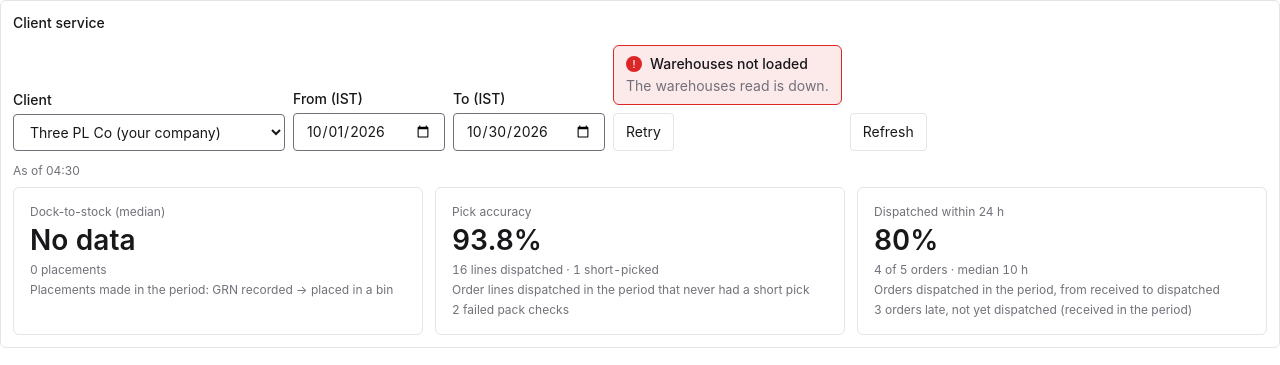
Test: ClientService (21-8) › 21-11b: a failed warehouses read takes the picker slot with Retry; the report still reads for all warehouses; Retry refetches
The image size is (1280, 365).
Expected: the message "! Warehouses not loaded The warehouses read is down." is shown, [613,45,842,105]
Step 1. Click the button "Retry" → (643, 132), box [613,113,674,151]
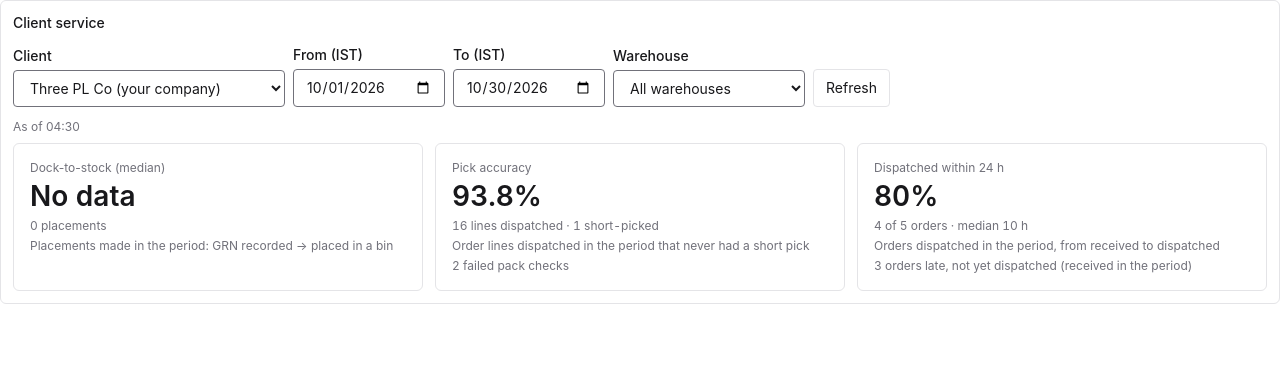
Expected: the text "Warehouses not loaded" is gone
